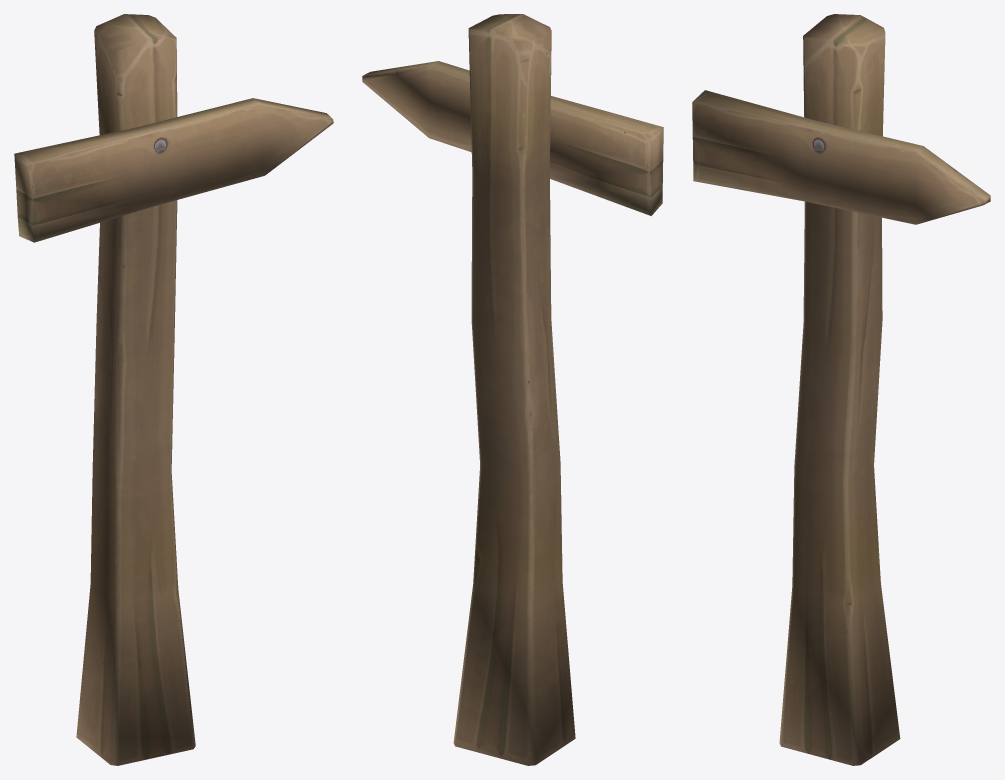
File: SignPost_1.fbx
The picture shows the model from 3 angles, left to right: view 1: azimuth 30°, elevation 25°; view 2: azimuth 150°, elevation 25°; view 3: azimuth 330°, elevation 25°; orthographic projection.
Parts seen in each view (by area): view 1: SignPost_1_LOD0; view 2: SignPost_1_LOD0; view 3: SignPost_1_LOD0.
Part boxes in pixels (box(x1,y1,x2,y2)): SignPost_1_LOD0: box(14, 14, 333, 765); SignPost_1_LOD0: box(362, 14, 663, 765); SignPost_1_LOD0: box(692, 14, 990, 765).
Size of the model in its own units: 82.27 by 188 by 23.49.
